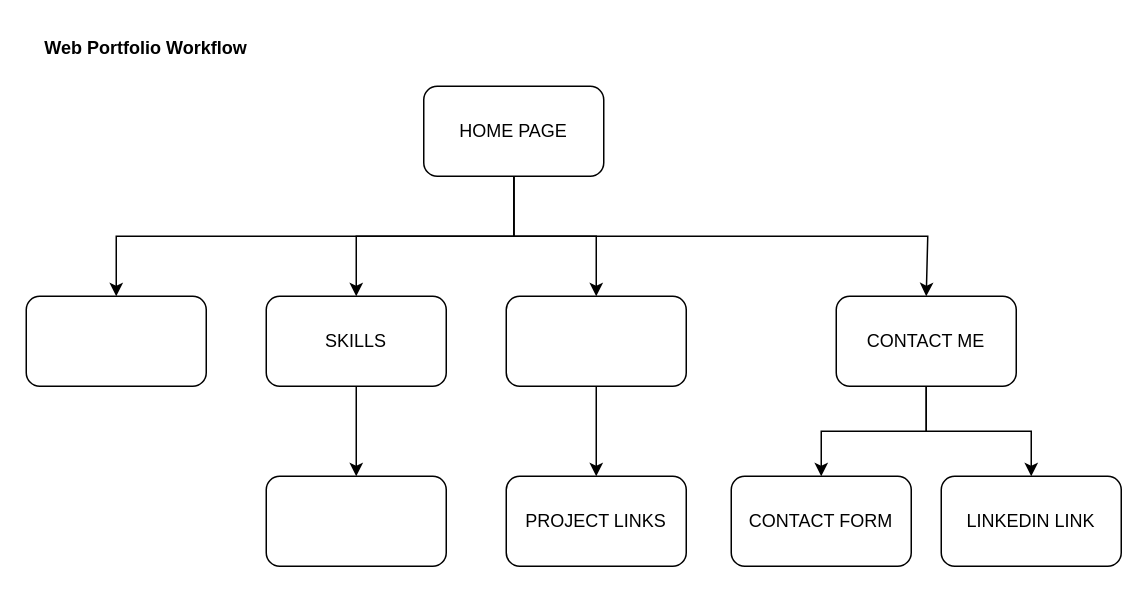
This 1148x593 diagram has some shape labels left out. Here are the shapes that lost their labels. From the top down, the box of each, then its label:
(25, 295, 206, 386): ABOUT ME
(505, 295, 686, 386): PROJECTS
(265, 475, 446, 566): REPO LINKS
